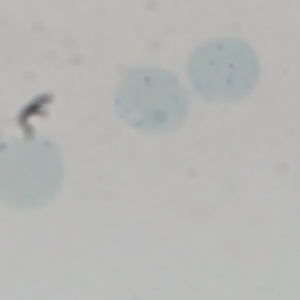punctate reticulocyte: (186, 35, 261, 106), (112, 66, 190, 134)
